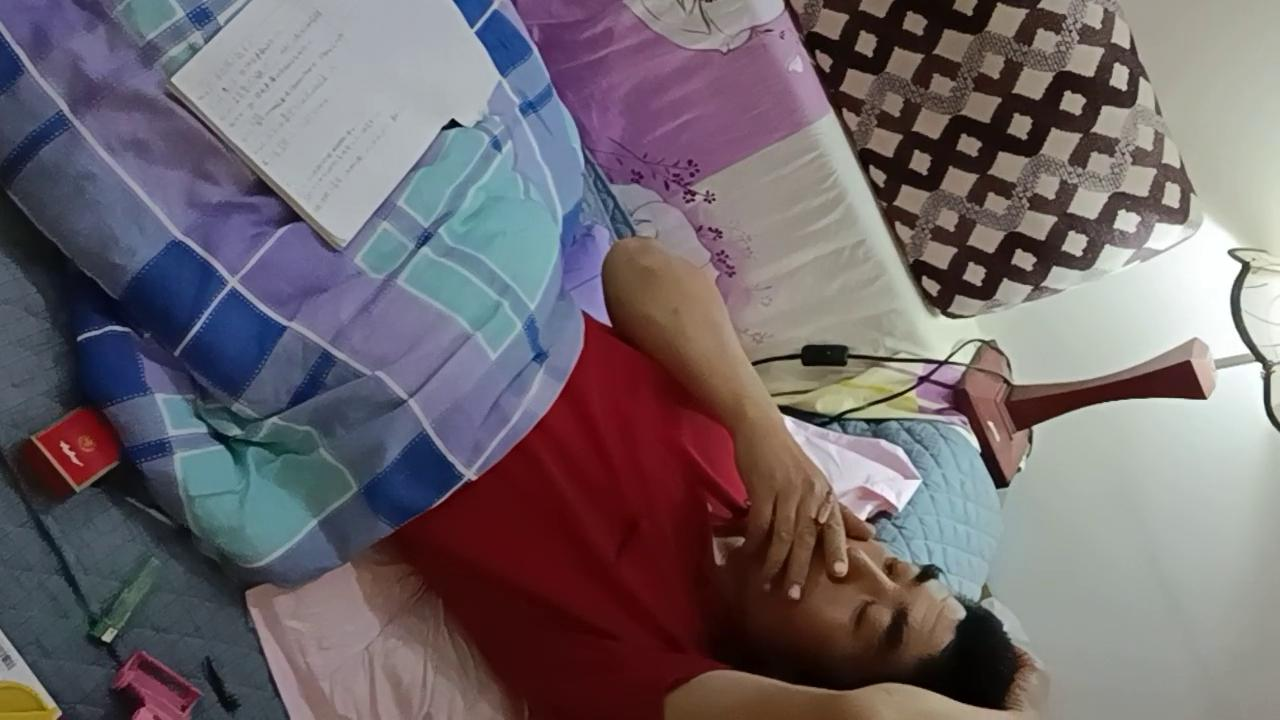smoke: (814, 488, 833, 537)
